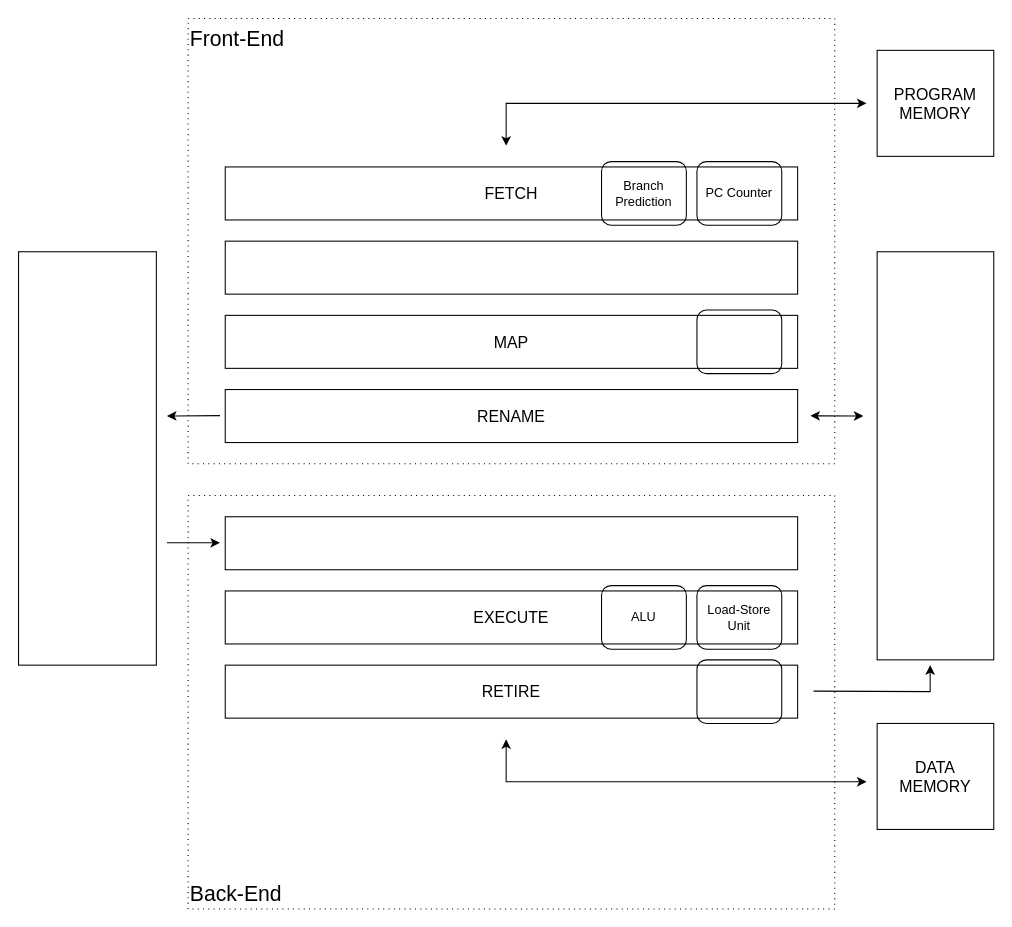
This 1012x927 diagram has some shape labels left out. Here are the shapes that lost their labels. From the top down, the centre of each, then its label:
the point at 511,267: DECODE
the point at 739,341: Register Renaming
the point at 86,458: RESERVATION STATION
the point at 935,455: PHYSICAL REGISTER FILE
the point at 511,543: SCHEDULE
the point at 739,691: Reorder Buffer
